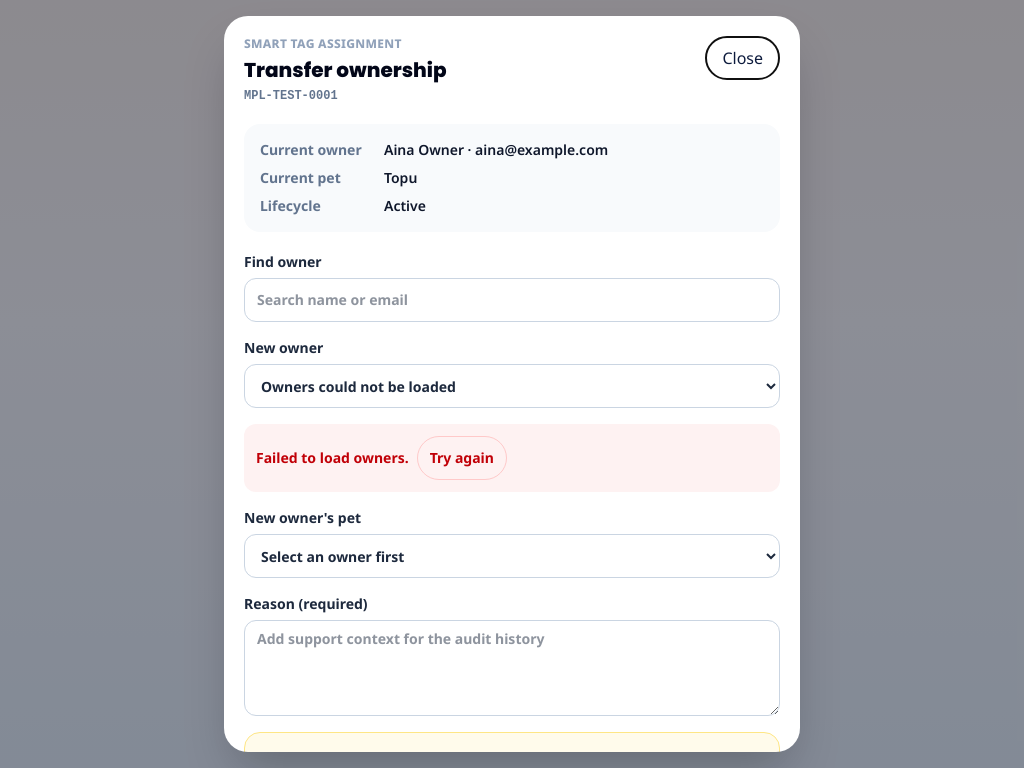
AdminSmartTagAssignmentDialog › retries an owner load failure and recovers
Expected: the message "Failed to load owners. Try again" is shown, [244,424,780,492]
Step 1. Click the button "Try again" → (462, 458), box [417,436,507,480]
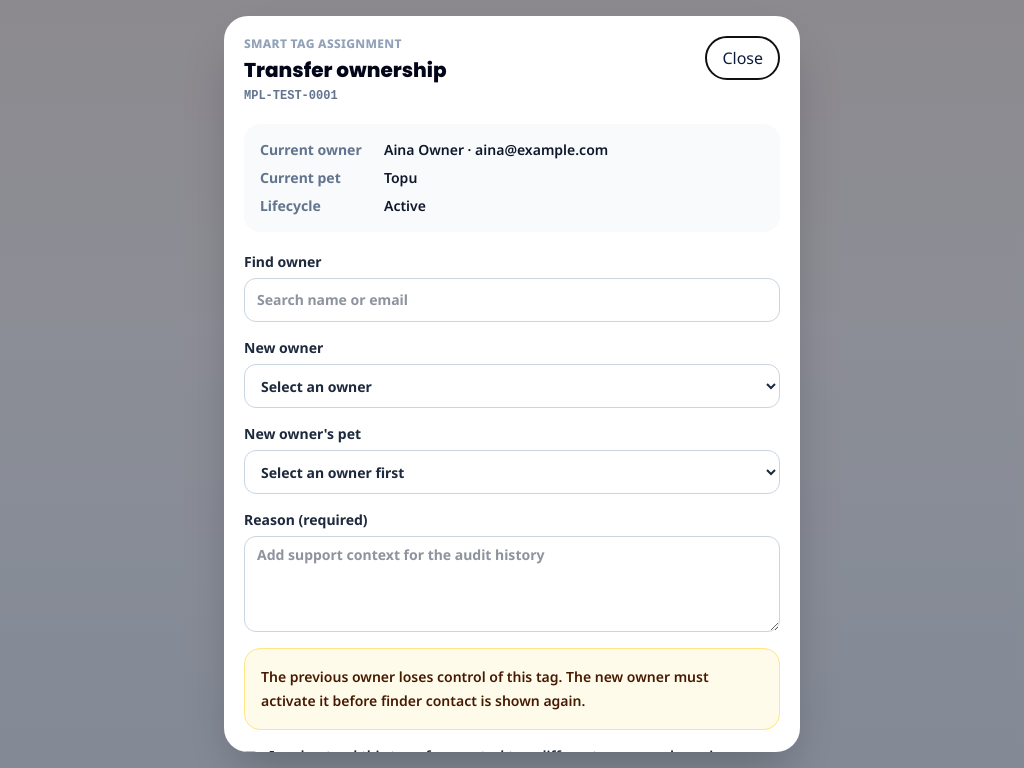
Now the text "Failed to load owners" is gone
